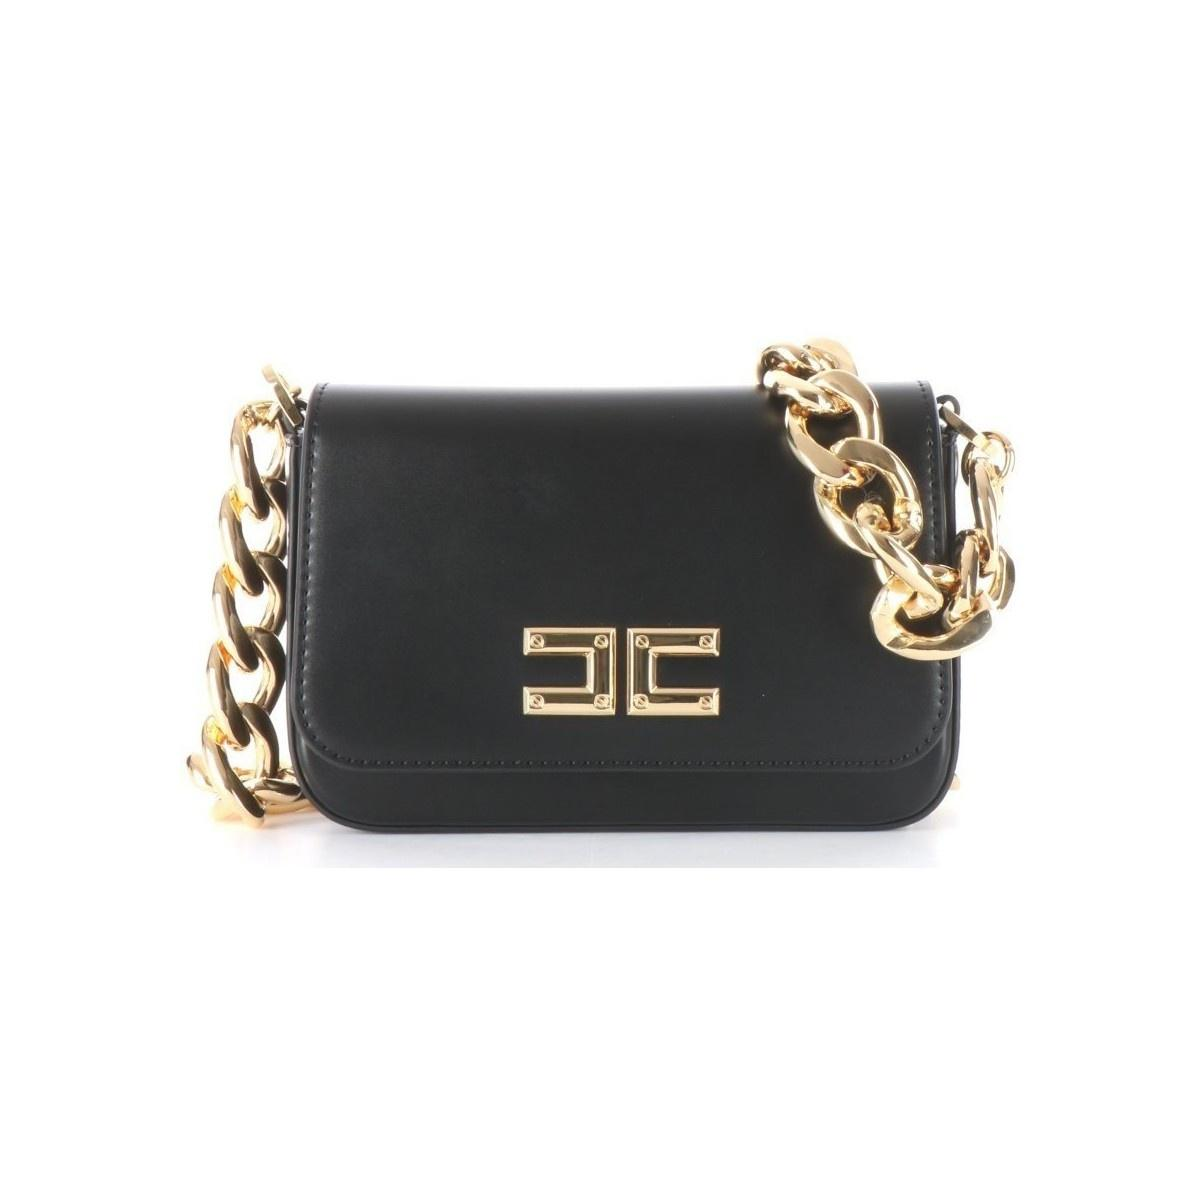ELISABETTA-FRANCHI: (504, 601, 741, 748)
